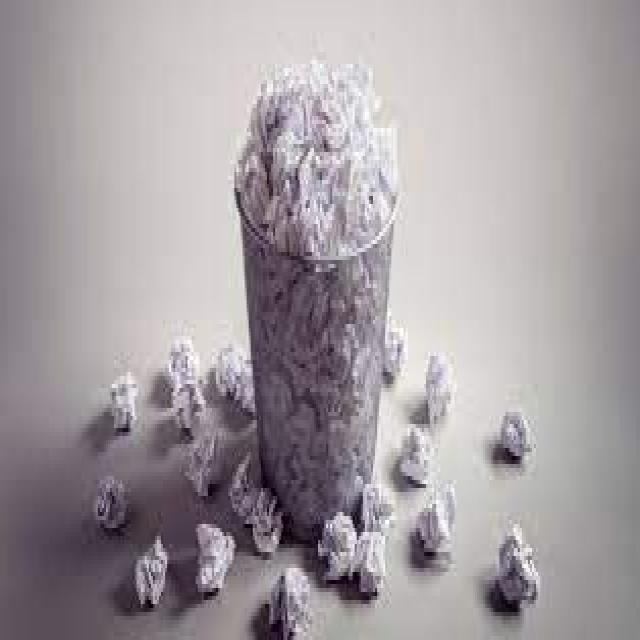PaperCardboard: (239, 61, 402, 255)
